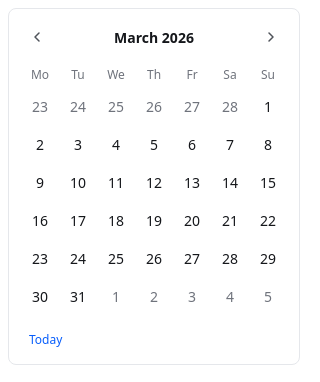
Test case: Calendar › moves between months with the header buttons
This screenshot has width=320, height=382.
Click the button named "Next month" at point(271, 37), box [255,21,287,53]
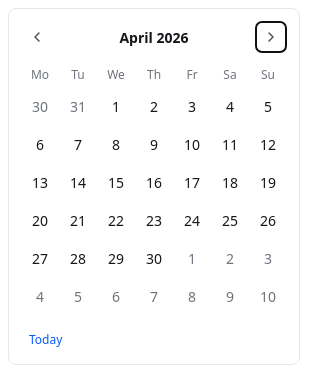
Now the text "April 2026" is shown, box [120,28,189,46]
Click the button named "Previous month" at point(37, 37), box [21,21,53,53]
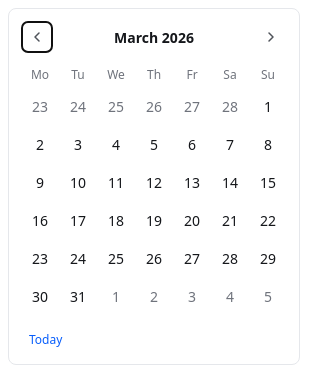
Now the text "March 2026" is shown, box [114,28,194,46]
